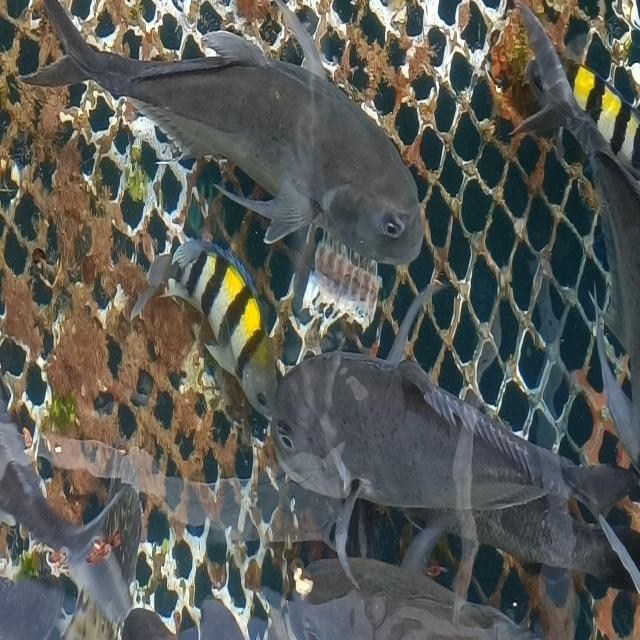ikan: (18, 0, 425, 270), (268, 346, 638, 600), (507, 0, 639, 463), (130, 234, 282, 422)
